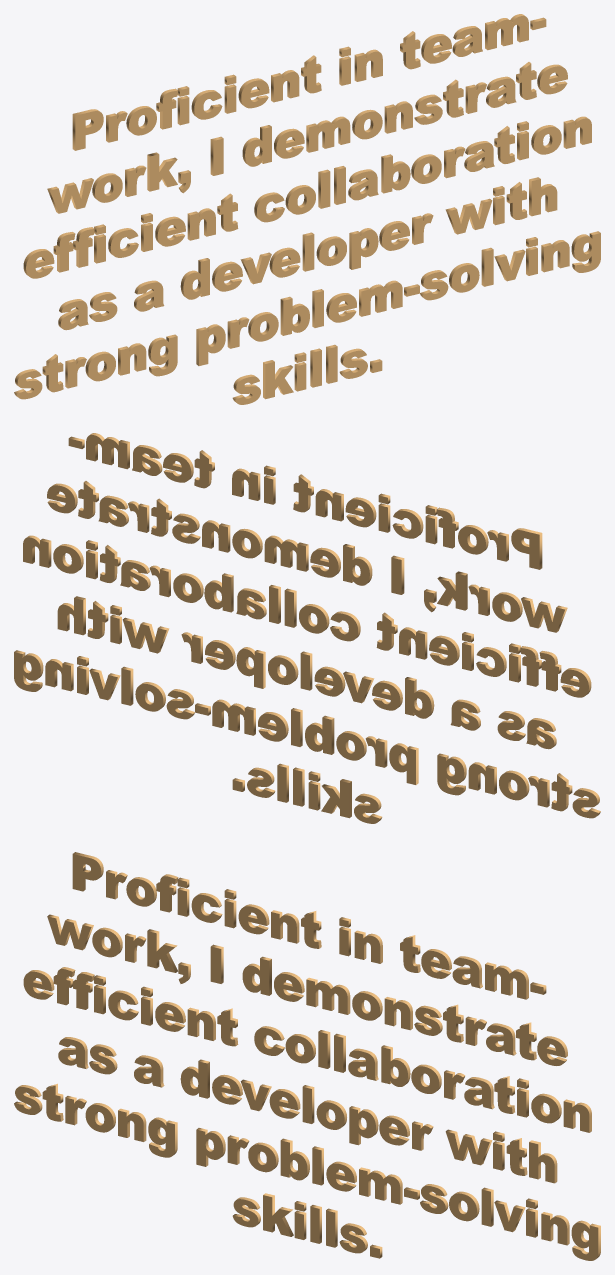
Rendered from desc-n3teamwork-transformed.glb.
3 views of the same model, one above another, from view 1: azimuth 30°, elevation 25°; view 2: azimuth 150°, elevation 25°; view 3: azimuth 330°, elevation 25° (orthographic).
Visible parts, largest first — view 1: teamwork; view 2: teamwork; view 3: teamwork.
Part boxes in pixels (x1,y1,x2,y2): teamwork: (14,14,600,404); teamwork: (14,433,600,823); teamwork: (14,852,600,1260).
Bounding box in the file's own units: 0.1335 × 0.0723 × 0.001.
